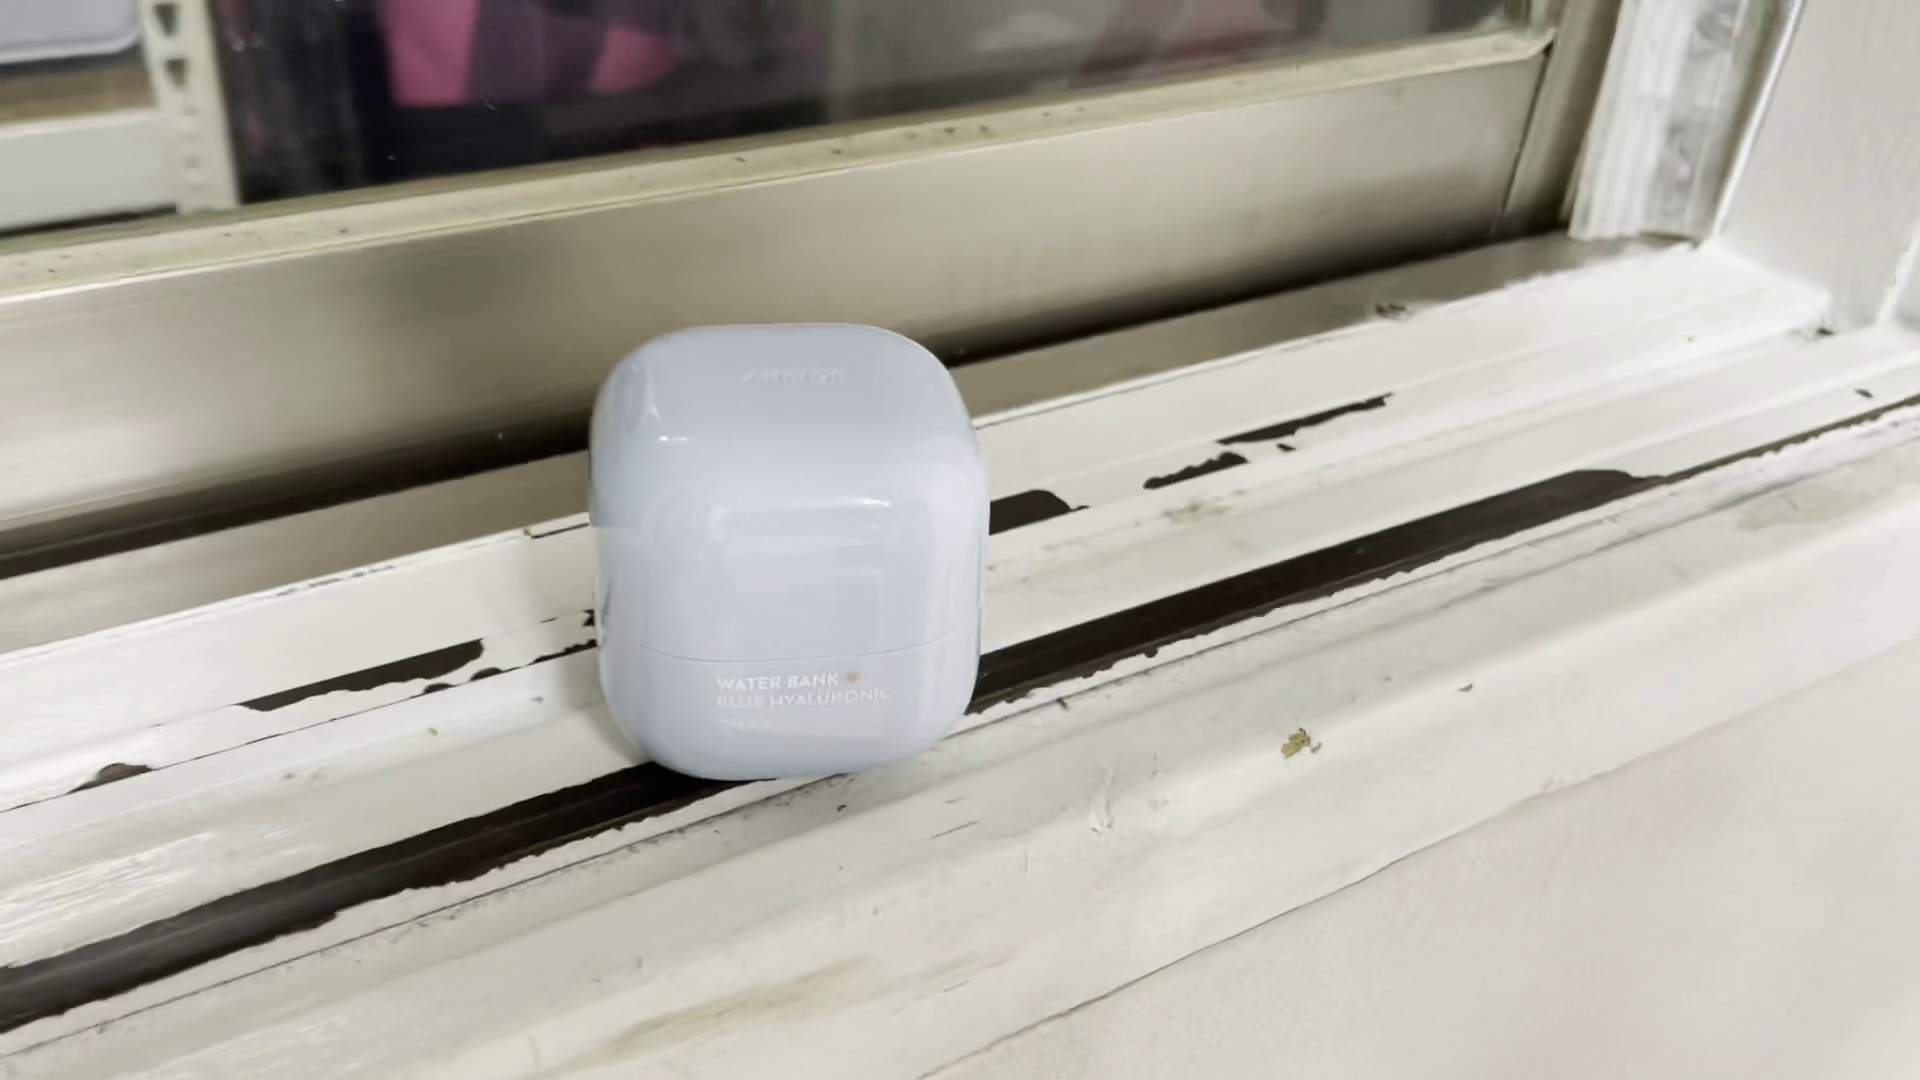cream: (593, 323, 986, 775)
